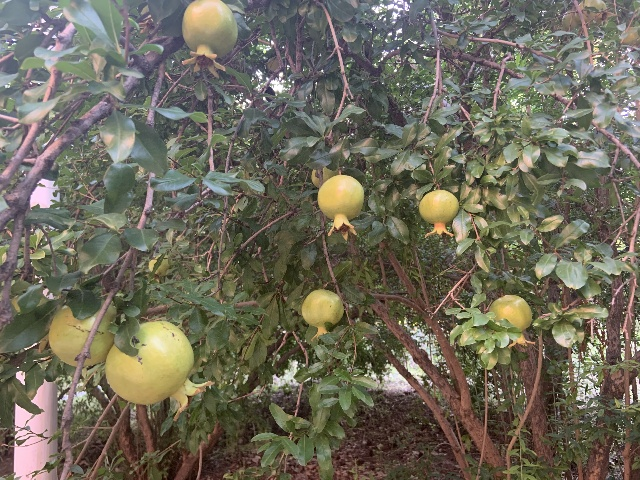mid-growth: (105, 321, 212, 423), (36, 302, 115, 366), (180, 0, 238, 76), (317, 175, 364, 240), (488, 294, 535, 349), (301, 289, 343, 341), (418, 190, 459, 238), (575, 0, 615, 27), (311, 166, 339, 188), (148, 254, 172, 276), (556, 10, 581, 31), (622, 26, 639, 51)
